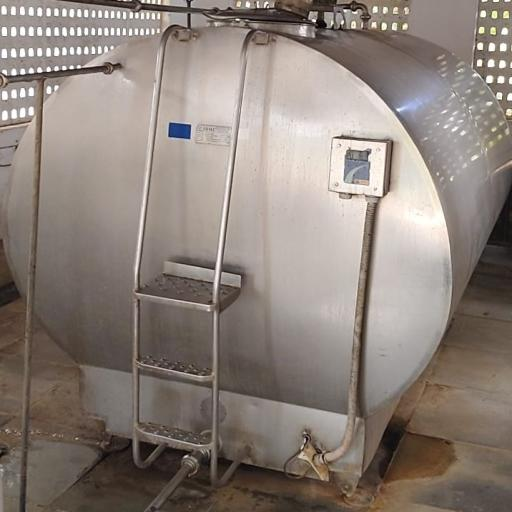silo: (1, 9, 511, 483)
